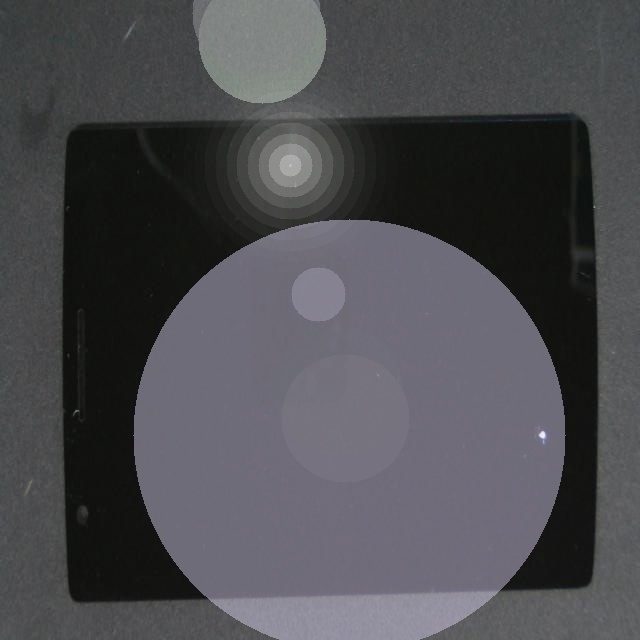stain: (288, 235, 640, 640)
